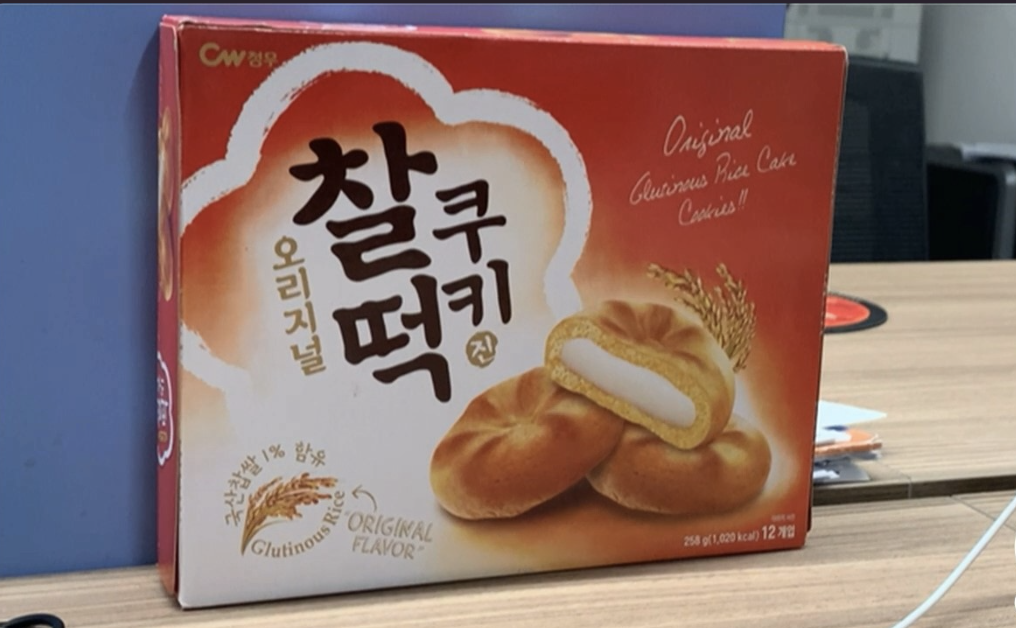cookies_150g: (207, 58, 795, 551)
